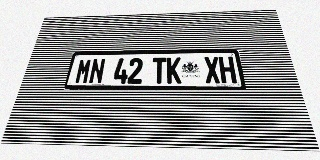2: (127, 58, 143, 84)
4: (113, 58, 129, 84)
H: (218, 56, 237, 83)
K: (167, 57, 181, 84)
M: (74, 59, 92, 84)
N: (88, 58, 106, 84)
T: (152, 57, 166, 84)
X: (203, 57, 221, 83)
